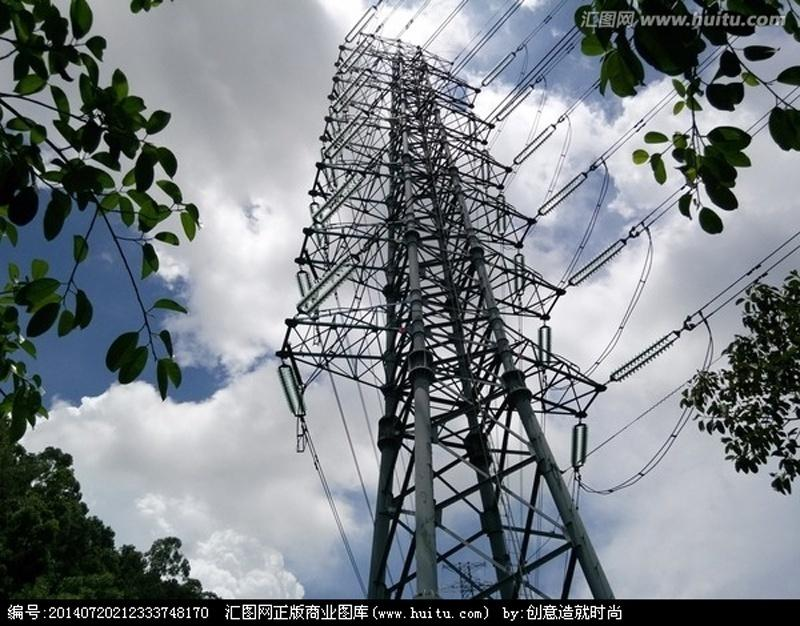power_tower: (285, 22, 618, 598)
